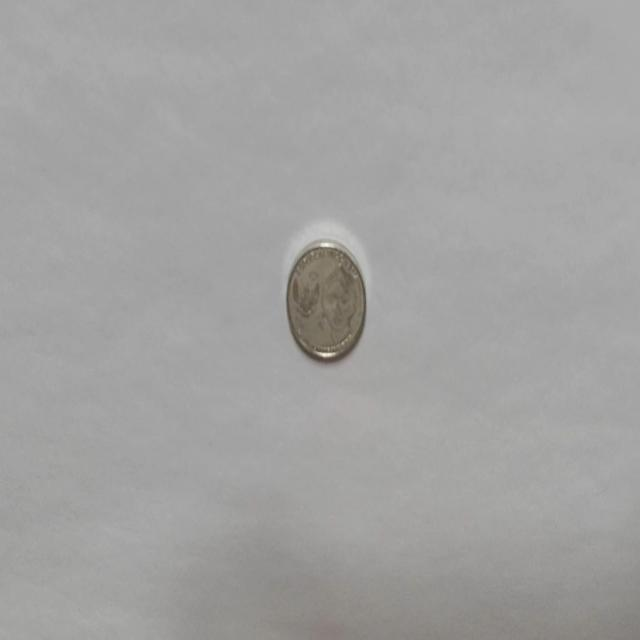dua ratus rupiah: (285, 237, 366, 362)
